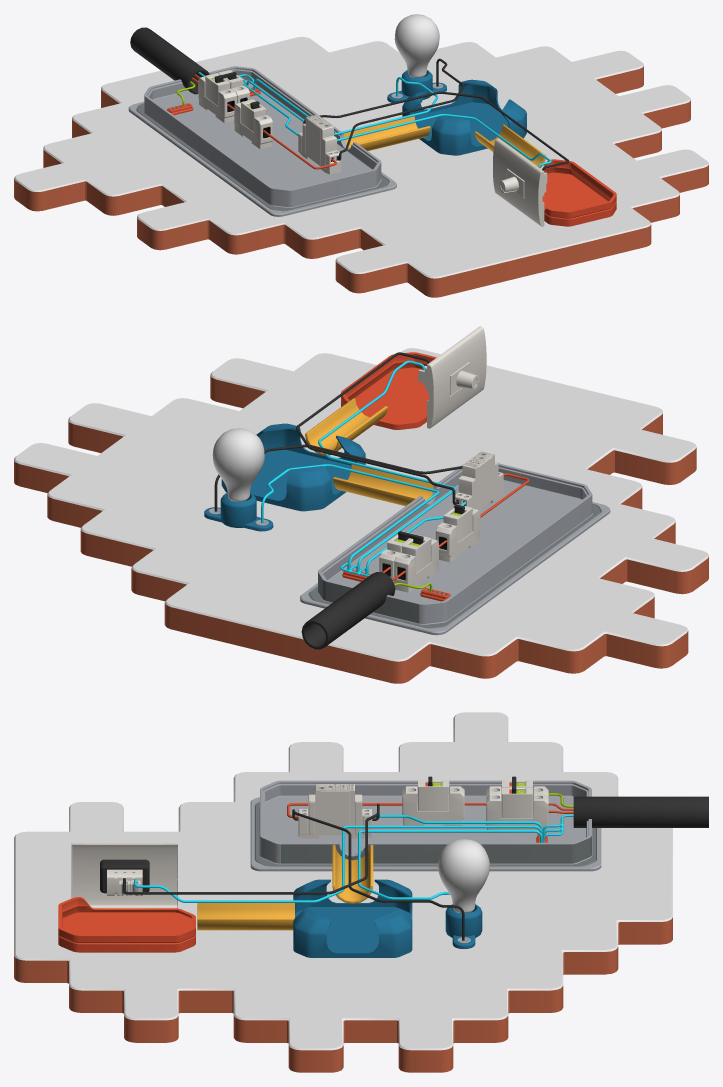
The picture shows the model from 3 angles, top to bottom: view 1: azimuth 30°, elevation 25°; view 2: azimuth 150°, elevation 25°; view 3: azimuth 270°, elevation 25°; orthographic projection. The views are drawn at different scales.
Parts seen in each view (by area): view 1: Parede, Caixa_1, Caixa_2, Caixa_4, Lampada_1, Interruptor, Tubo_1, Rele_1, Tubo_2, Rele_2, Azul_Claro, Tubo_4 (+3 smaller); view 2: Parede, Caixa_1, Caixa_2, Lampada_1, Caixa_4, Interruptor, Tubo_1, Rele_1, Tubo_2, Tubo_4, Rele_2, Azul_Claro (+3 smaller); view 3: Parede, Caixa_1, Caixa_2, Interruptor, Caixa_4, Tubo_1, Lampada_1, Tubo_4, Rele_1, Rele_2, Azul_Claro, Tubo_2 (+3 smaller).
Boxes of the visible parts, x1,y1,x2,y2 form: Parede: [14, 36, 708, 297]; Caixa_1: [128, 66, 396, 216]; Caixa_2: [402, 79, 526, 155]; Caixa_4: [542, 159, 616, 226]; Lampada_1: [387, 14, 446, 102]; Interruptor: [493, 138, 547, 226]; Tubo_1: [130, 27, 209, 94]; Rele_1: [198, 70, 249, 122]; Tubo_2: [343, 116, 430, 150]; Rele_2: [234, 99, 272, 149]; Azul_Claro: [246, 80, 551, 167]; Tubo_4: [474, 124, 546, 168]; Parede: [14, 348, 708, 683]; Caixa_1: [300, 451, 610, 635]; Caixa_2: [221, 423, 365, 511]; Lampada_1: [204, 428, 273, 531]; Caixa_4: [341, 352, 436, 429]; Interruptor: [418, 326, 486, 428]; Tubo_1: [301, 572, 395, 649]; Rele_1: [379, 531, 438, 592]; Tubo_2: [333, 464, 433, 506]; Tubo_4: [305, 398, 387, 455]; Rele_2: [435, 504, 480, 562]; Azul_Claro: [318, 360, 456, 570]; Parede: [14, 712, 672, 1072]; Caixa_1: [250, 780, 601, 871]; Caixa_2: [293, 879, 412, 957]; Interruptor: [71, 843, 177, 908]; Caixa_4: [58, 897, 195, 952]; Tubo_1: [573, 796, 708, 827]; Lampada_1: [438, 839, 489, 948]; Tubo_4: [197, 903, 294, 930]; Rele_1: [486, 780, 548, 832]; Rele_2: [402, 780, 464, 825]; Azul_Claro: [134, 825, 542, 902]; Tubo_2: [332, 844, 373, 903].
Size of the model in its own units: 10.62 by 1.69 by 9.24.
